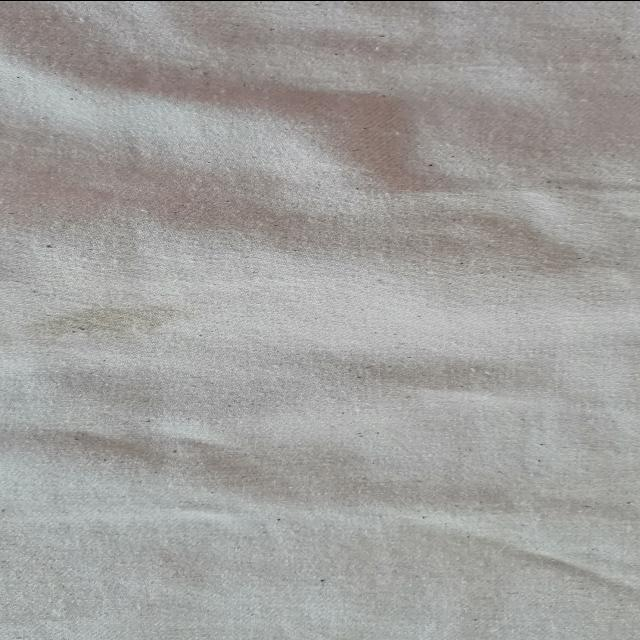taaaches: (12, 302, 190, 343), (307, 633, 373, 640)
